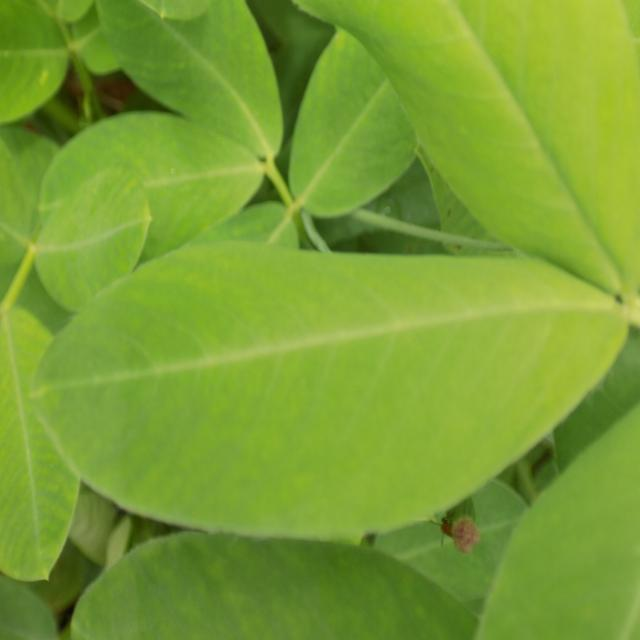Ground nut_healthy: (33, 237, 636, 542), (45, 111, 260, 237)
